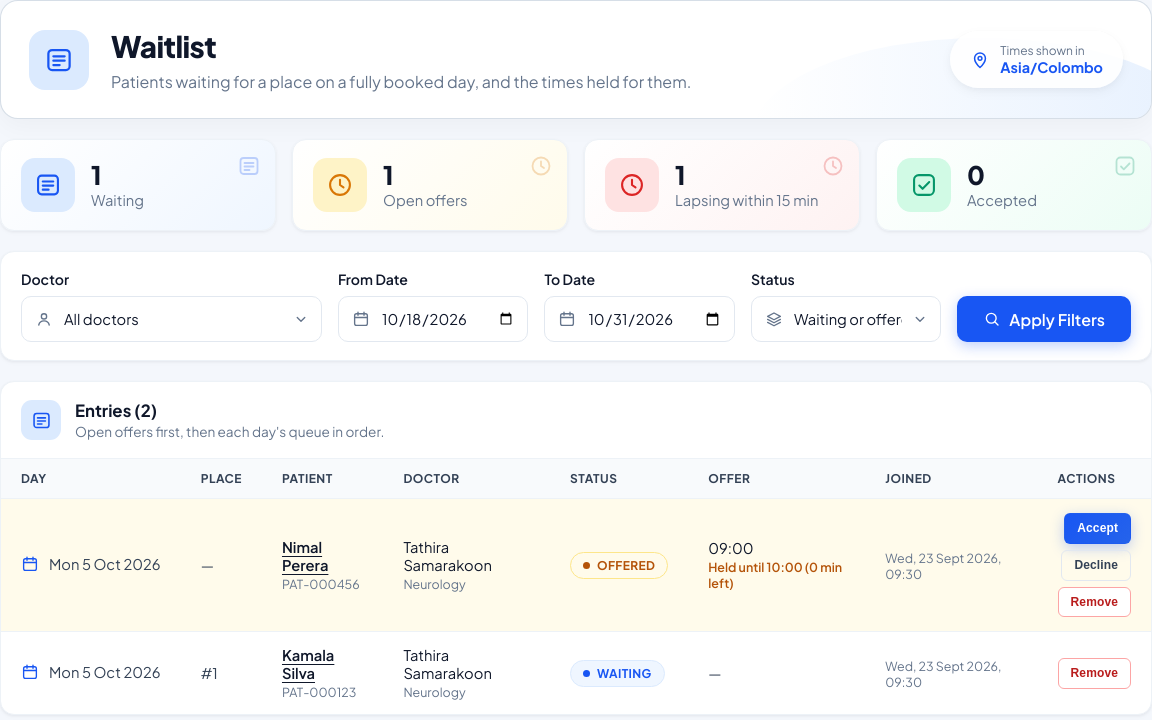
Test: WaitlistPage (SCRUM-37) › shows the service's reason when an accept is refused
This screenshot has width=1152, height=720.
Expected: the table with test id "waitlist-table" is shown, [1,459,1151,714]
Click the button with aria-label "Accept the offer for Nimal Perera": (1098,528) [1064,513,1131,544]
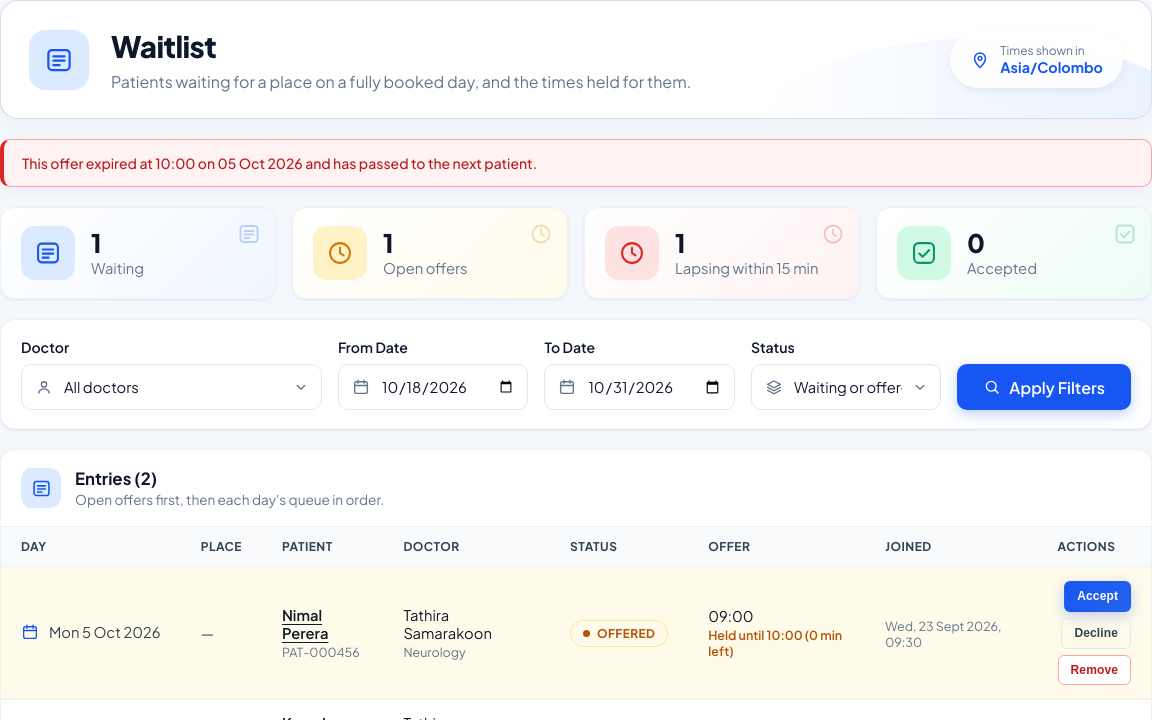
Result: the message shows "has passed to the next patient" at [22,154,537,172]
